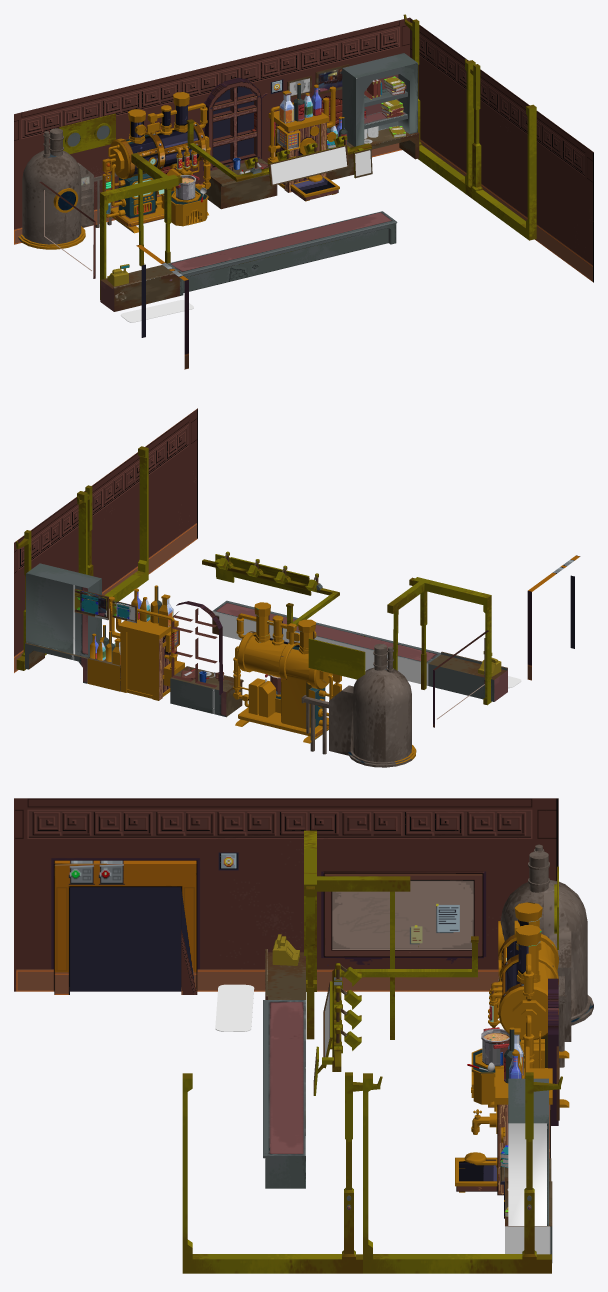
File: New Bar.fbx
3 views of the same model, one above another, from view 1: azimuth 30°, elevation 25°; view 2: azimuth 150°, elevation 25°; view 3: azimuth 270°, elevation 25° (orthographic). The views are drawn at different scales.
Parts seen in each view (by area): view 1: Wall, BarTable, Cooking Maching, Boiler, Cabinet, Drinks_machine, Counter_stand_1, Counter_stand_2, Counter_stand_3.001, Counter_stand_2.002, BigTable.001, Ceiling_installation_1 (+3 smaller); view 2: Wall, Cooking Maching, Boiler, BarTable, Cabinet, Drinks_machine, Counter_stand_3.001, Counter_stand_1, Counter_stand_2, BigTable.001, Ceiling_installation_1, Drinks_set (+2 smaller); view 3: Wall, BarTable, Cooking Maching, Boiler, Counter_stand_2.002, Counter_stand_2, Cabinet, Counter_stand_3.001, Drinks_machine, Counter_stand_1, carpet, Pot (+1 smaller).
Boxes of the visible parts, x1,y1,x2,y2 form: Wall: (14, 17, 593, 369); BarTable: (100, 211, 397, 311); Cooking Maching: (102, 92, 210, 233); Boiler: (18, 128, 117, 249); Cabinet: (342, 53, 419, 159); Drinks_machine: (267, 83, 339, 201); Counter_stand_1: (186, 119, 372, 186); Counter_stand_2: (464, 59, 536, 240); Counter_stand_3.001: (100, 153, 182, 299); Counter_stand_2.002: (403, 14, 475, 193); BigTable.001: (205, 159, 277, 209); Ceiling_installation_1: (59, 113, 115, 154); Wall: (14, 408, 580, 727); Cooking Maching: (233, 602, 341, 743); Boiler: (301, 643, 416, 767); BarTable: (212, 600, 507, 701); Cabinet: (25, 563, 101, 683); Drinks_machine: (109, 585, 184, 700); Counter_stand_3.001: (387, 577, 491, 705); Counter_stand_1: (202, 551, 339, 626); Counter_stand_2: (77, 446, 148, 610); BigTable.001: (170, 666, 243, 717); Ceiling_installation_1: (308, 638, 365, 679); Drinks_set: (87, 625, 120, 691); Wall: (14, 798, 558, 1125); BarTable: (263, 949, 305, 1188); Cooking Maching: (471, 902, 569, 1107); Boiler: (497, 844, 593, 1067); Counter_stand_2.002: (363, 1072, 562, 1273); Counter_stand_2: (182, 1072, 382, 1273); Cabinet: (505, 1078, 552, 1262); Counter_stand_3.001: (304, 830, 410, 1039); Drinks_machine: (455, 1027, 552, 1195); Counter_stand_1: (313, 936, 478, 1095); carpet: (215, 984, 254, 1031); Pot: (481, 1027, 509, 1066).
Bounding box in the file's own units: 3072 × 1032 × 2634.
